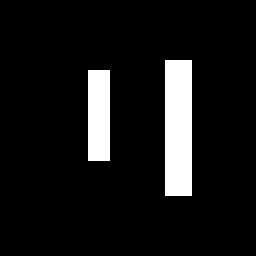person: (165, 60, 191, 195), (88, 70, 109, 160)
